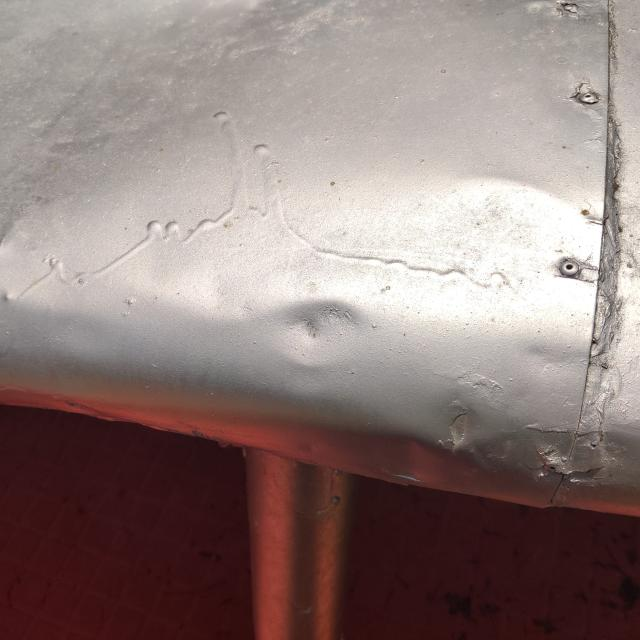dent: (375, 367, 525, 503), (258, 258, 388, 401)
